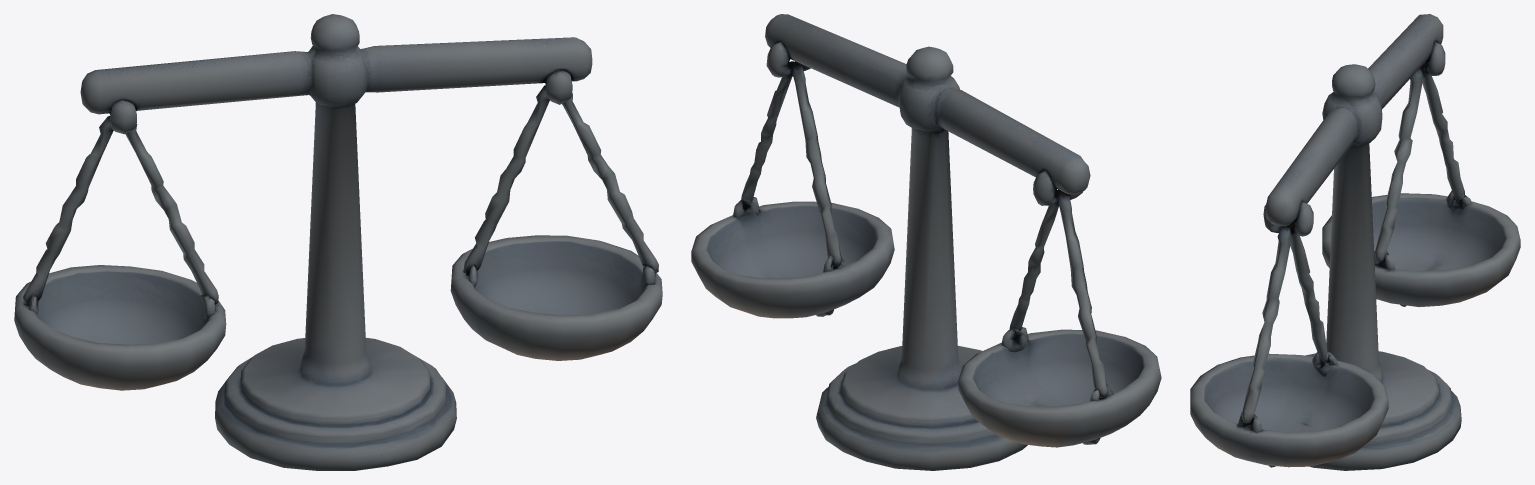
File: icon-scales.glb
The picture shows the model from 3 angles, left to right: view 1: azimuth 30°, elevation 25°; view 2: azimuth 150°, elevation 25°; view 3: azimuth 270°, elevation 25°; orthographic projection. The views are drawn at different scales.
Visible parts, largest first — view 1: tripo_node_kodyurd-model-63____________________; view 2: tripo_node_kodyurd-model-63____________________; view 3: tripo_node_kodyurd-model-63____________________.
Part boxes in pixels (x1,y1,x2,y2): tripo_node_kodyurd-model-63____________________: (14,14,662,470); tripo_node_kodyurd-model-63____________________: (691,14,1161,470); tripo_node_kodyurd-model-63____________________: (1190,14,1520,470).
Bounding box in the file's own units: 0.998 × 0.7168 × 0.5918.
1 material, 1 textured.
